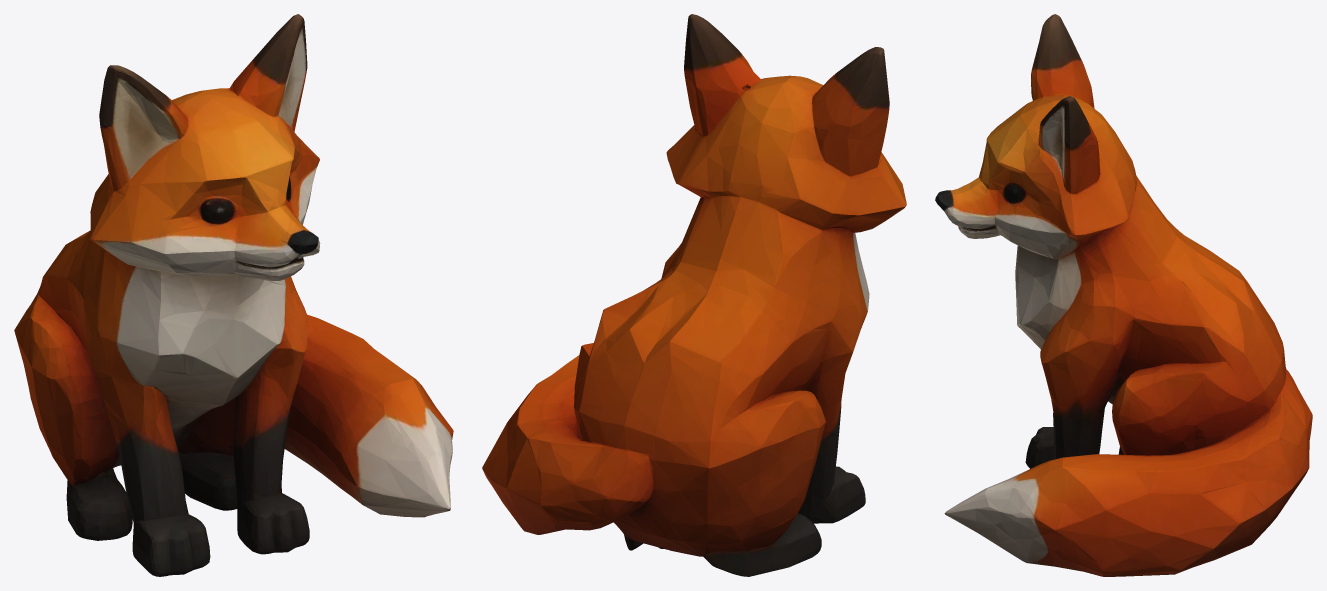
File: fox.glb
3 views of the same model, side by side, from view 1: azimuth 30°, elevation 25°; view 2: azimuth 150°, elevation 25°; view 3: azimuth 270°, elevation 25° (orthographic). The views are drawn at different scales.
Visible parts, largest first — view 1: world; view 2: world; view 3: world.
Part boxes in pixels (box(x1,y1,x2,y2)): world: box(14, 14, 453, 576); world: box(482, 14, 906, 576); world: box(935, 14, 1312, 576).
Size of the model in its own units: 0.7444 by 0.9998 by 0.7918.
1 material, 1 textured.
